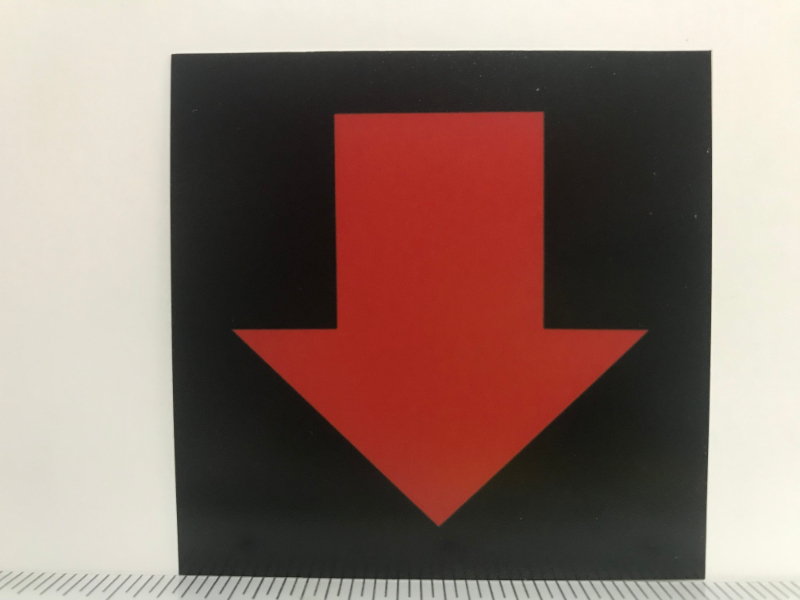DA-2: (179, 55, 704, 576)
